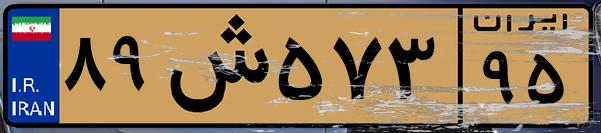3: (385, 28, 445, 110)
5: (270, 28, 330, 110), (525, 38, 570, 115)
7: (330, 28, 385, 110)
8: (57, 26, 110, 100)
9: (475, 38, 525, 113), (110, 28, 158, 98)
ش: (158, 12, 270, 120)
